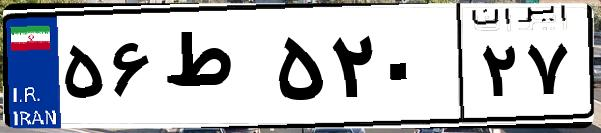0: (385, 28, 445, 110)
2: (330, 28, 385, 110), (475, 38, 525, 113)
5: (270, 28, 330, 110), (57, 26, 110, 100)
6: (110, 28, 158, 98)
7: (525, 38, 570, 115)
ط: (158, 20, 270, 120)
